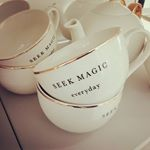cups: (31, 23, 150, 106), (1, 5, 62, 69)
